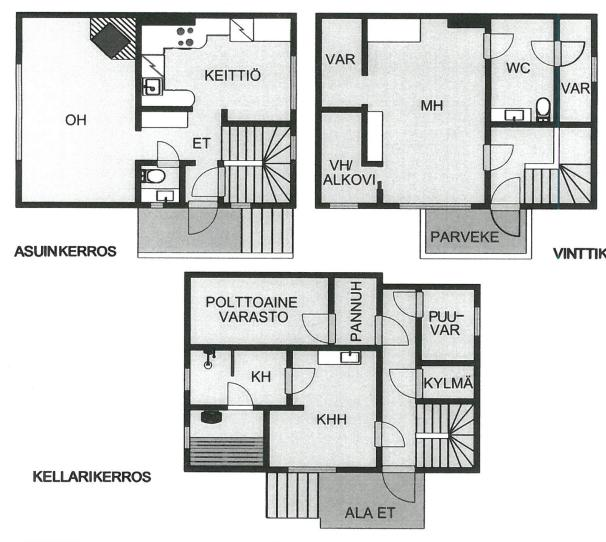bathroom: (490, 17, 554, 121), (139, 163, 181, 202)
door: (381, 464, 418, 505), (373, 311, 411, 349), (300, 311, 338, 347), (488, 204, 528, 237), (387, 366, 427, 399), (489, 176, 525, 210), (191, 165, 225, 200), (186, 200, 220, 234), (372, 418, 407, 451), (282, 366, 317, 397), (392, 290, 426, 321), (481, 142, 515, 172), (528, 39, 560, 69), (482, 32, 515, 61), (224, 381, 254, 412), (554, 39, 587, 67), (155, 139, 179, 170)
perimeter: (184, 271, 482, 475), (16, 11, 297, 210), (315, 15, 598, 210)
stairs: (219, 124, 290, 164), (216, 166, 292, 203), (524, 166, 591, 205), (265, 473, 318, 520), (240, 208, 293, 252), (263, 126, 291, 204), (419, 434, 476, 468), (415, 402, 474, 434)
window: (13, 57, 26, 170), (394, 198, 475, 213), (283, 461, 341, 479), (286, 51, 299, 116), (470, 300, 485, 342), (324, 199, 364, 213), (179, 363, 194, 397), (587, 54, 601, 90), (179, 421, 193, 453), (287, 130, 299, 165), (227, 199, 254, 212), (147, 198, 167, 210)
